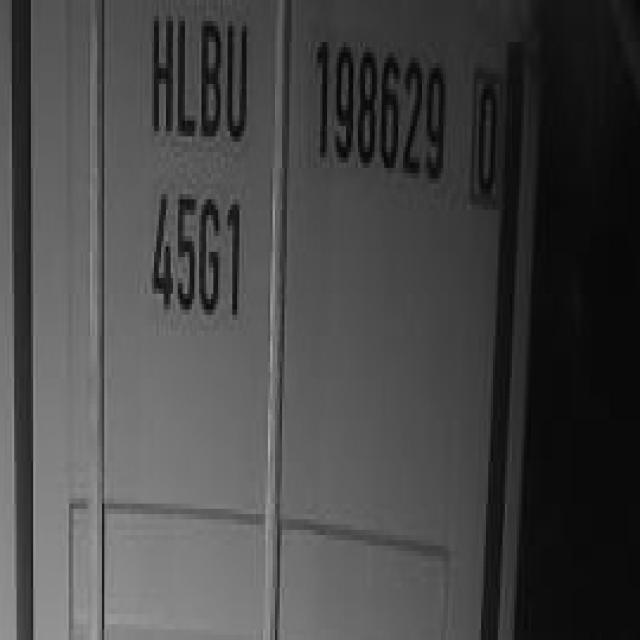dv: (466, 45, 508, 206)
owner: (143, 6, 255, 152)
serial: (302, 24, 448, 188)
size: (142, 180, 248, 336)
